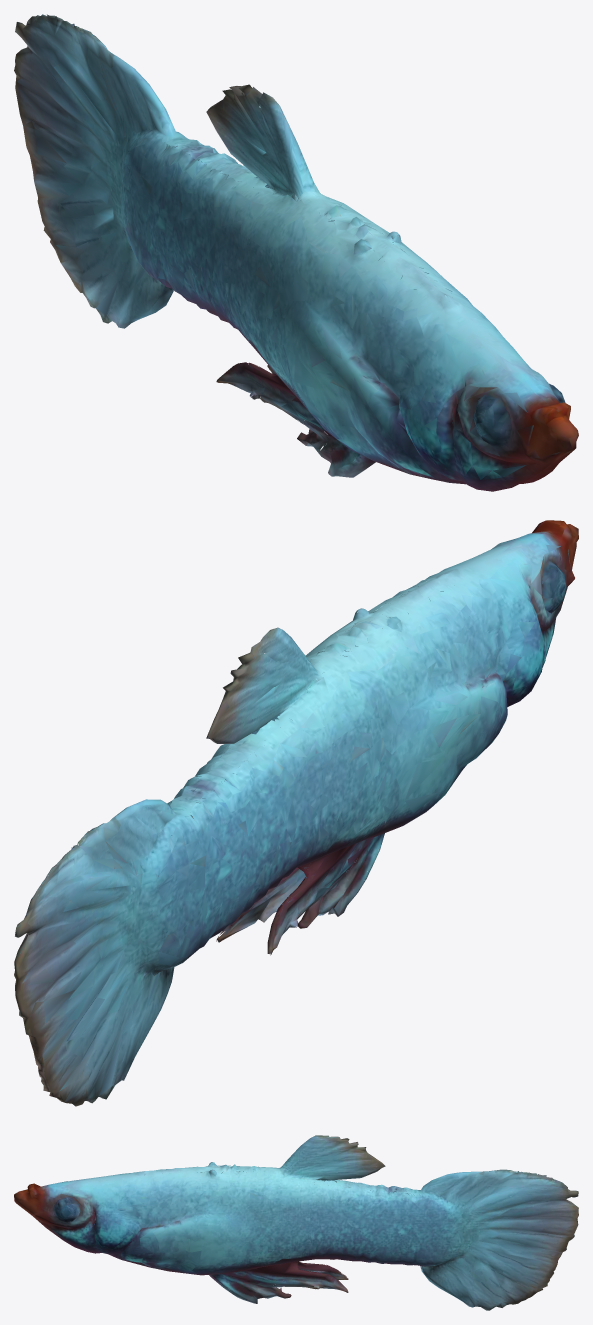
File: guppy-female.glb
3 renders of one model, top to bottom at view 1: azimuth 30°, elevation 25°; view 2: azimuth 150°, elevation 25°; view 3: azimuth 270°, elevation 25°, orthographic. The views are drawn at different scales.
Parts seen in each view (by area): view 1: geometry_0.001; view 2: geometry_0.001; view 3: geometry_0.001.
Boxes of the visible parts, x1,y1,x2,y2 form: geometry_0.001: (14,14,578,491); geometry_0.001: (14,520,578,1106); geometry_0.001: (14,1135,578,1310).
Size of the model in its own units: 0.00565 by 0.0141 by 0.0413.
Materials: 2 (2 with a texture image).
